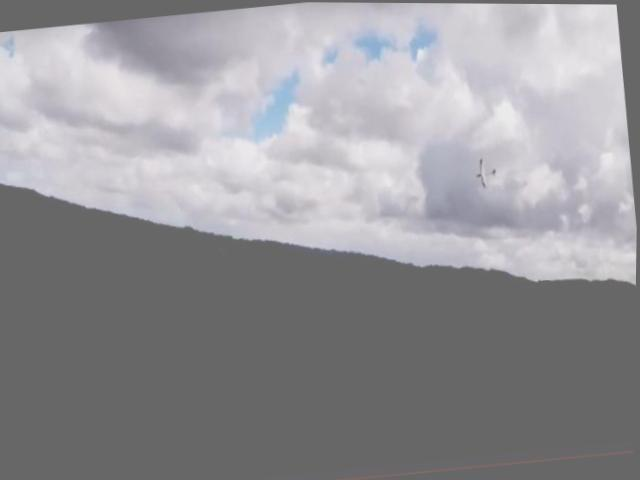iha: (471, 157, 498, 191)
